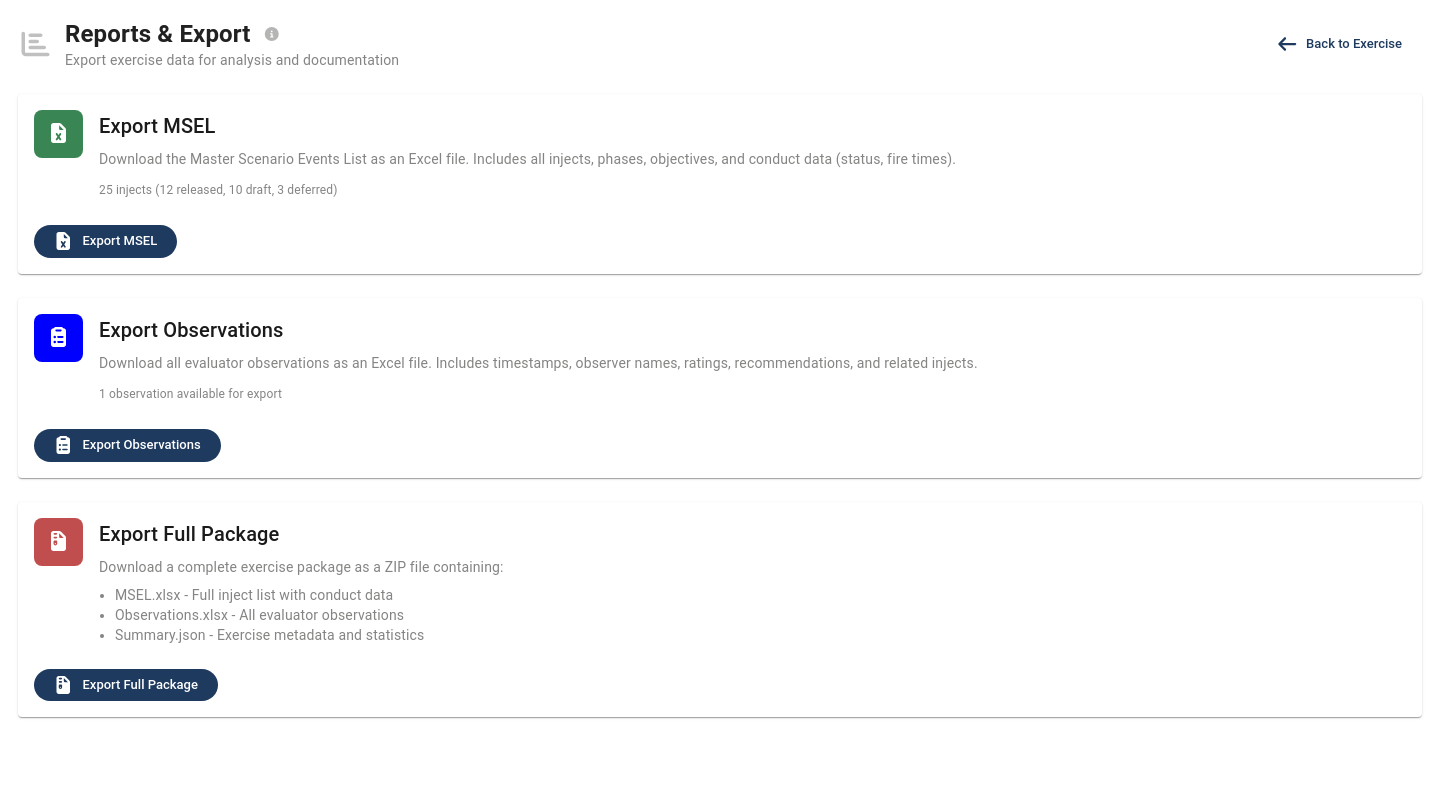
Test: ReportsPage › MSEL Export › shows error alert when MSEL export fails
Click the button "Export MSEL". click: (106, 241)
box: top-left (34, 225), bottom-right (177, 258)
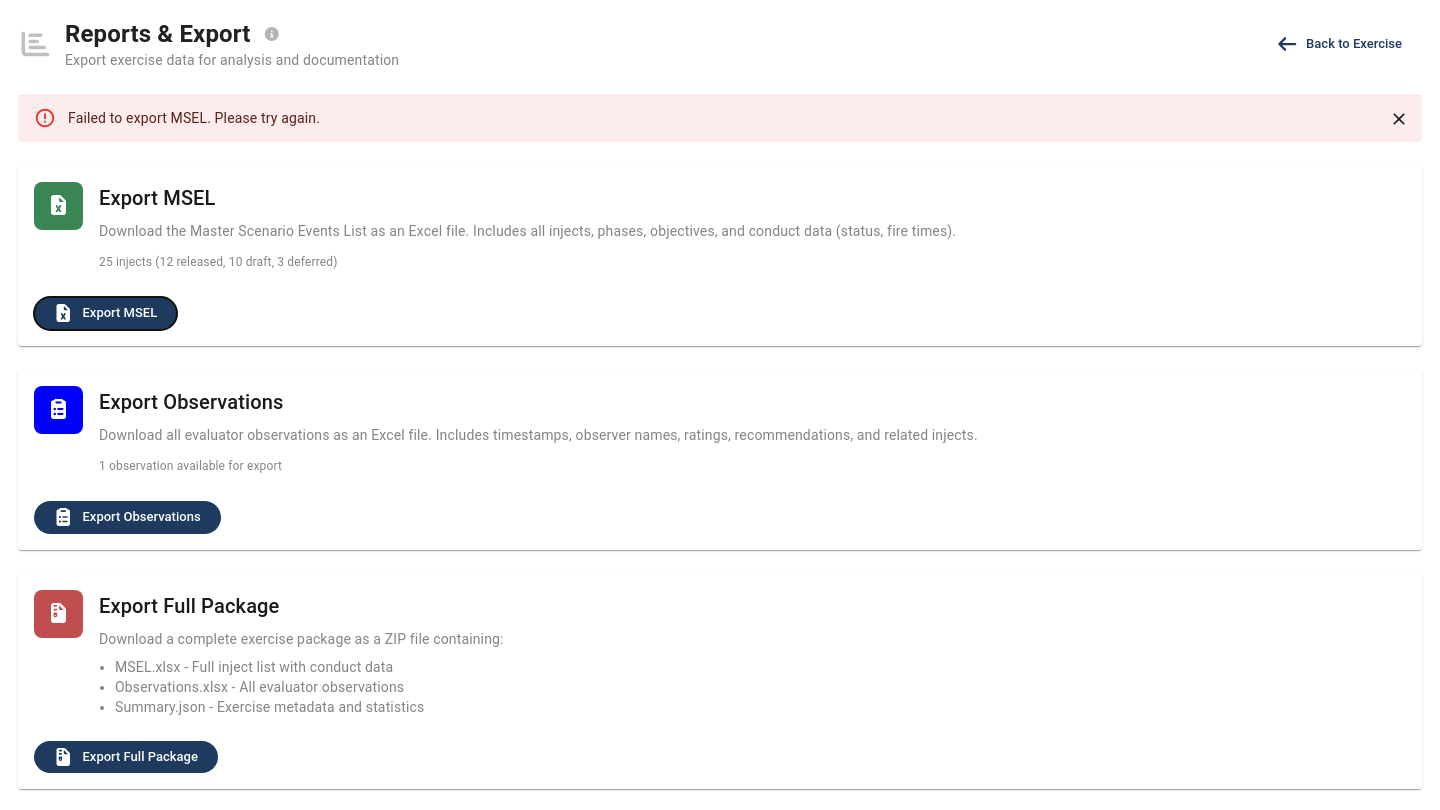
Now the text "Failed to export MSEL. Please try again." is shown, box top-left (68, 110), bottom-right (320, 126)
